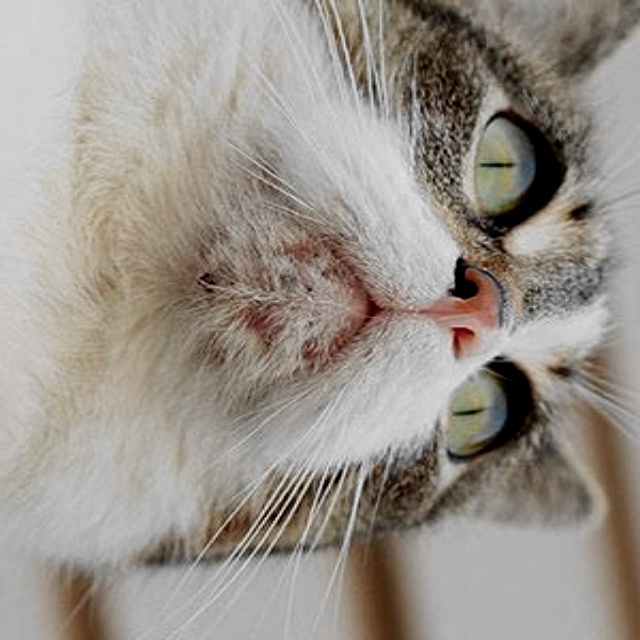acne: (184, 251, 330, 330)
